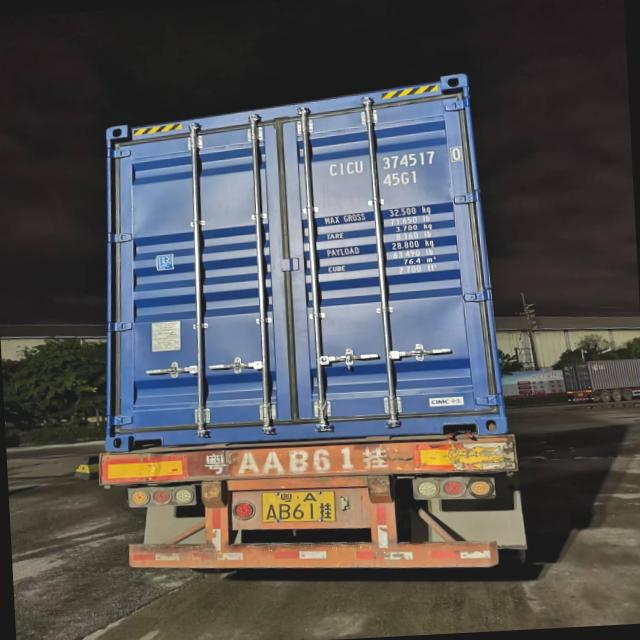seal: (344, 354, 356, 372)
